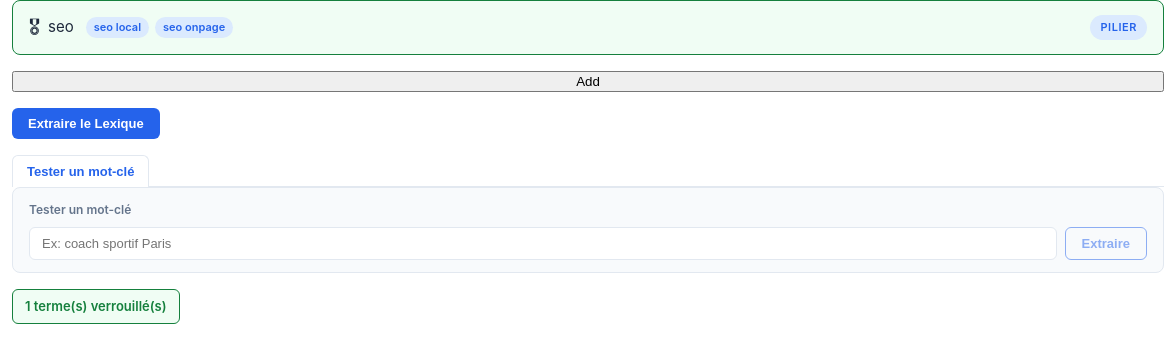
LexiquePanel — extractCustomKeyword (D4) › « Tester un mot-clé » reste ouvert quand des termes sont déjà retenus (FR-LEX-MULTI-KEYWORD)
Type "autre keyword" into the field with class "custom-keyword-input".
click(543, 244); type("autre keyword")  # box left=29, top=227, right=1057, bottom=260
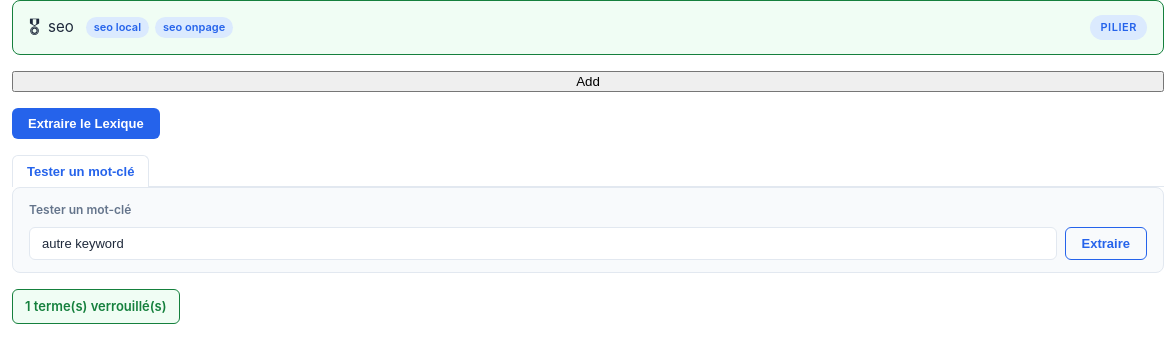
Now the button "Extraire" is enabled, box left=1065, top=227, right=1147, bottom=260
